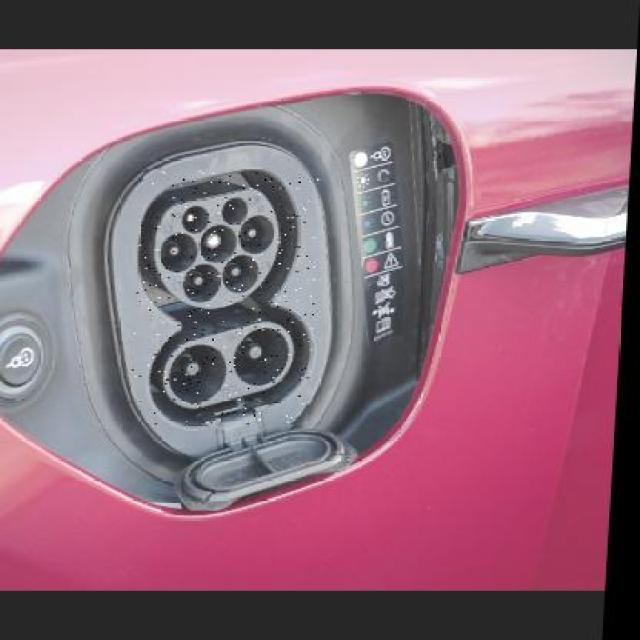CCS2: (112, 174, 332, 435)
